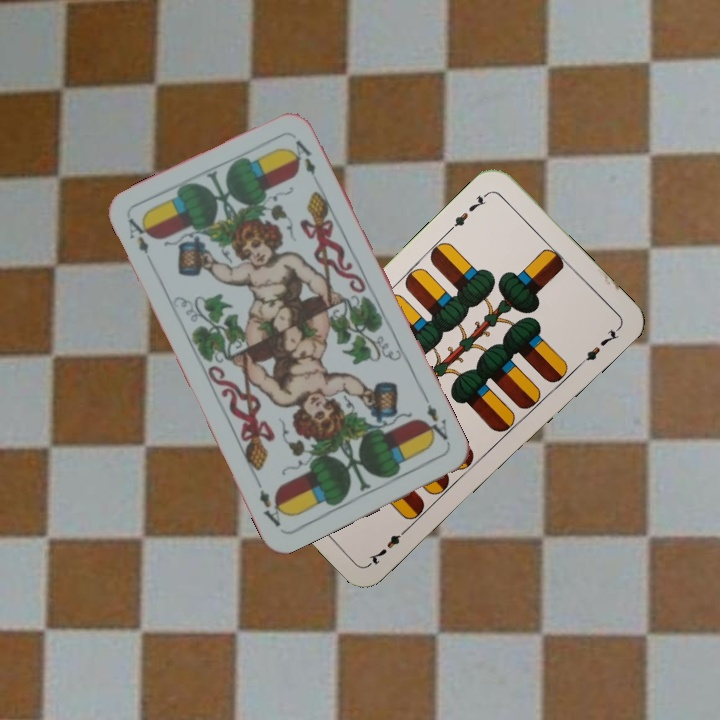E7: (445, 188, 493, 234), (365, 522, 413, 568)
EA: (418, 400, 453, 448), (123, 214, 155, 256)
